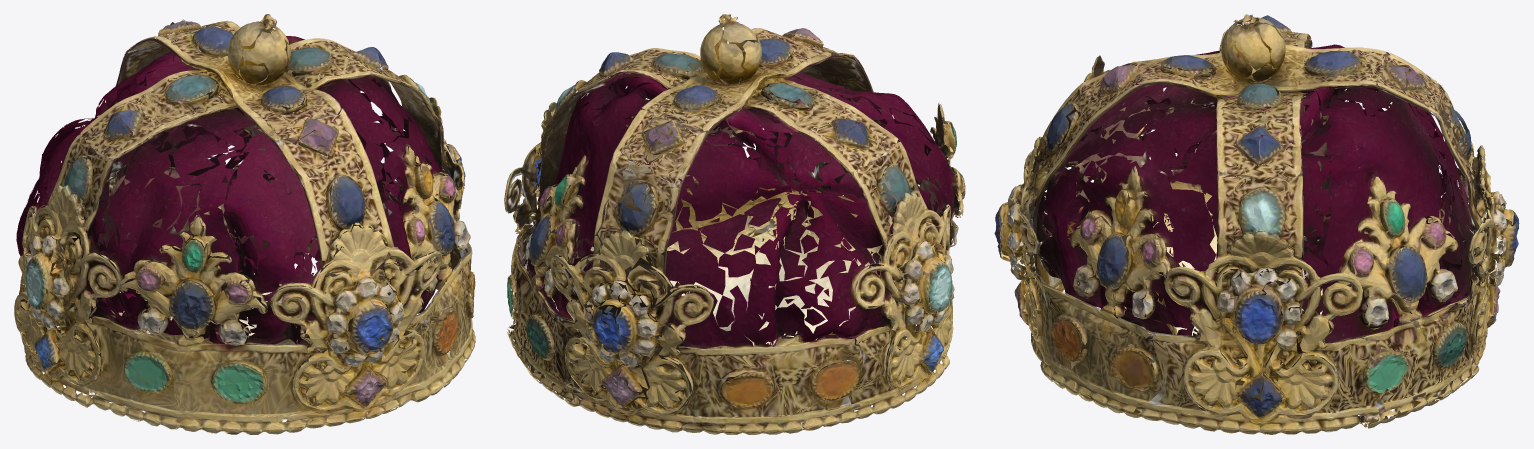
File: crown.glb
3 renders of one model, left to right at view 1: azimuth 30°, elevation 25°; view 2: azimuth 150°, elevation 25°; view 3: azimuth 270°, elevation 25°, orthographic. The views are drawn at different scales.
Parts seen in each view (by area): view 1: crown_3, crown_4, crown_1, crown_2, crown_0; view 2: crown_3, crown_1, crown_0, crown_2, crown_4; view 3: crown_3, crown_4, crown_1, crown_0, crown_2.
Boxes of the visible parts, x1=… form: crown_3: x1=14, y1=14, x2=475, y2=434; crown_4: x1=20, y1=20, x2=475, y2=432; crown_1: x1=16, y1=36, x2=454, y2=351; crown_2: x1=14, y1=14, x2=473, y2=429; crown_0: x1=16, y1=40, x2=452, y2=345; crown_3: x1=504, y1=15, x2=954, y2=432; crown_1: x1=516, y1=66, x2=958, y2=382; crown_0: x1=516, y1=72, x2=958, y2=381; crown_2: x1=505, y1=14, x2=965, y2=434; crown_4: x1=506, y1=28, x2=960, y2=432; crown_3: x1=995, y1=14, x2=1519, y2=434; crown_4: x1=994, y1=15, x2=1518, y2=432; crown_1: x1=1023, y1=45, x2=1486, y2=377; crown_0: x1=1039, y1=44, x2=1484, y2=388; crown_2: x1=1000, y1=14, x2=1518, y2=432.
Size of the model in its own units: 0.9581 by 0.7389 by 1.
Materials: 2 (2 with a texture image).
